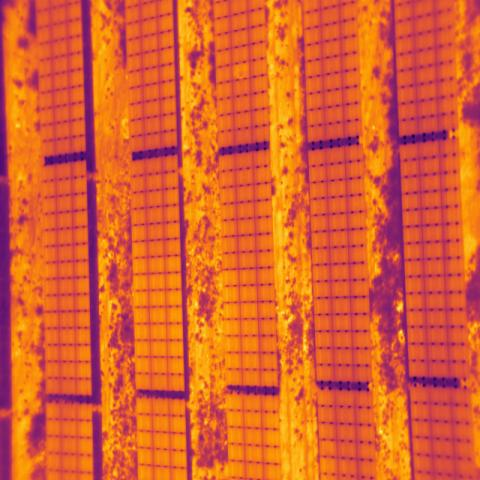fault: (231, 62, 250, 82)
